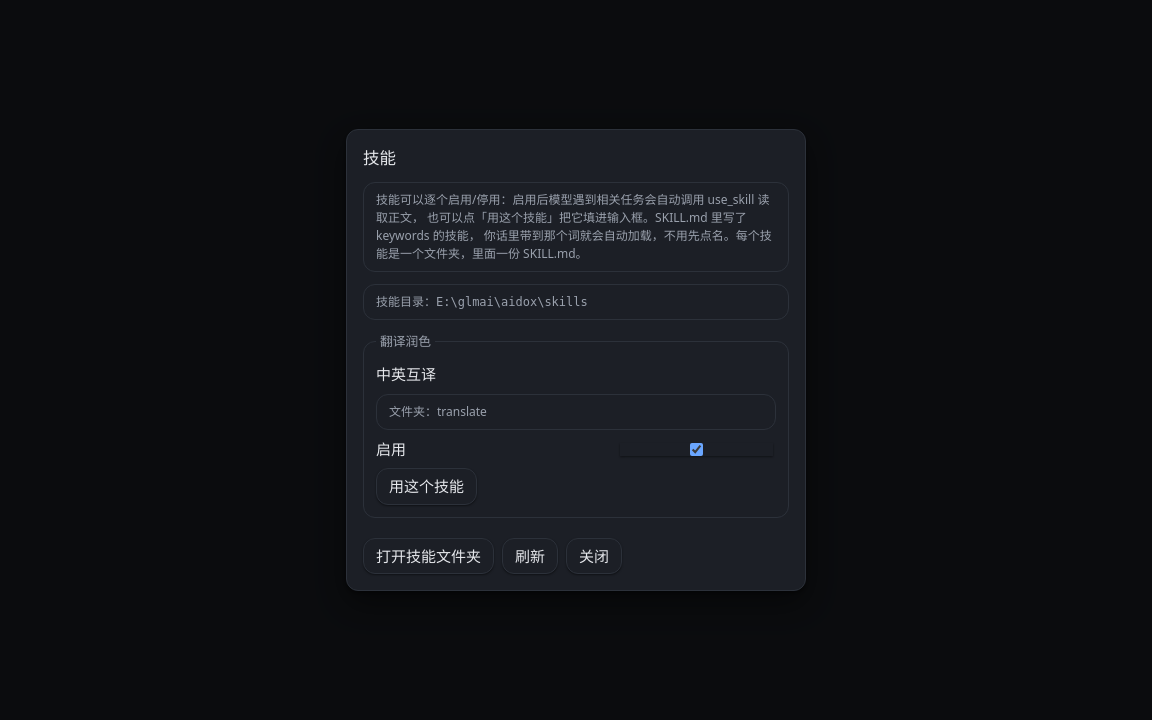
Scenario: SkillsPanel › toggles a skill off through the injected command and reloads
Click the checkbox named "启用 翻译润色" at (696, 449), box [620,443,773,456]
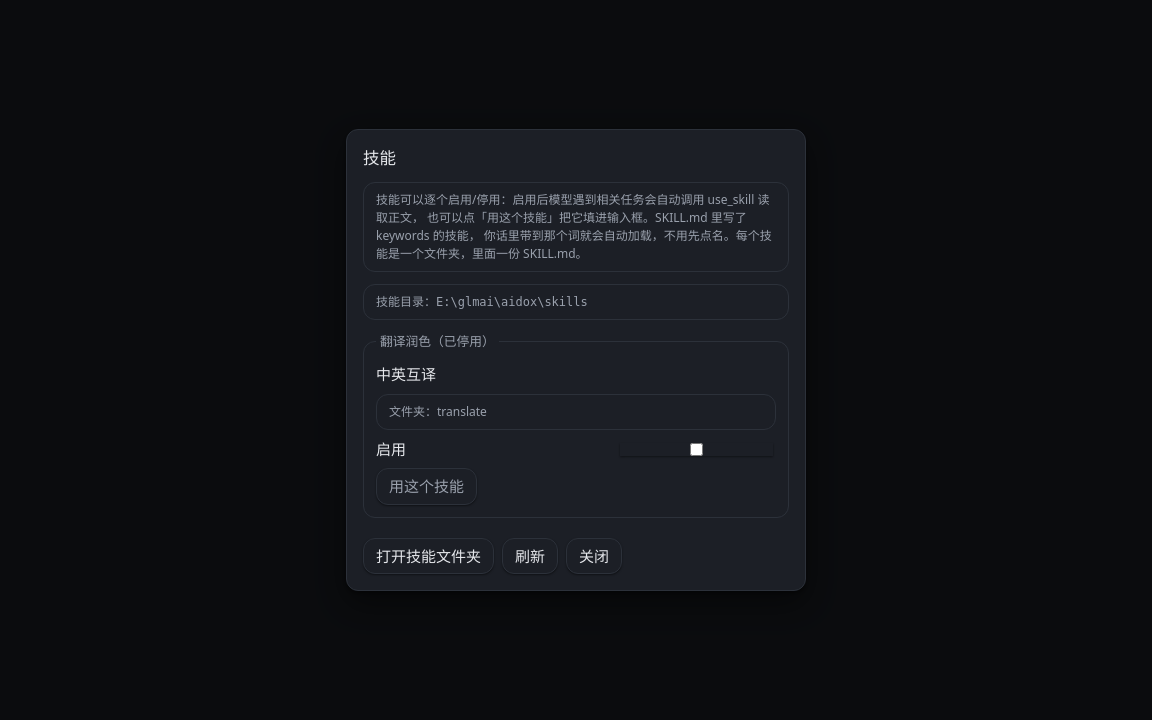
Now the checkbox named "启用 翻译润色" is not checked, box [620,443,773,456]
Now the text "翻译润色（已停用）" is shown, box [376,332,499,351]
